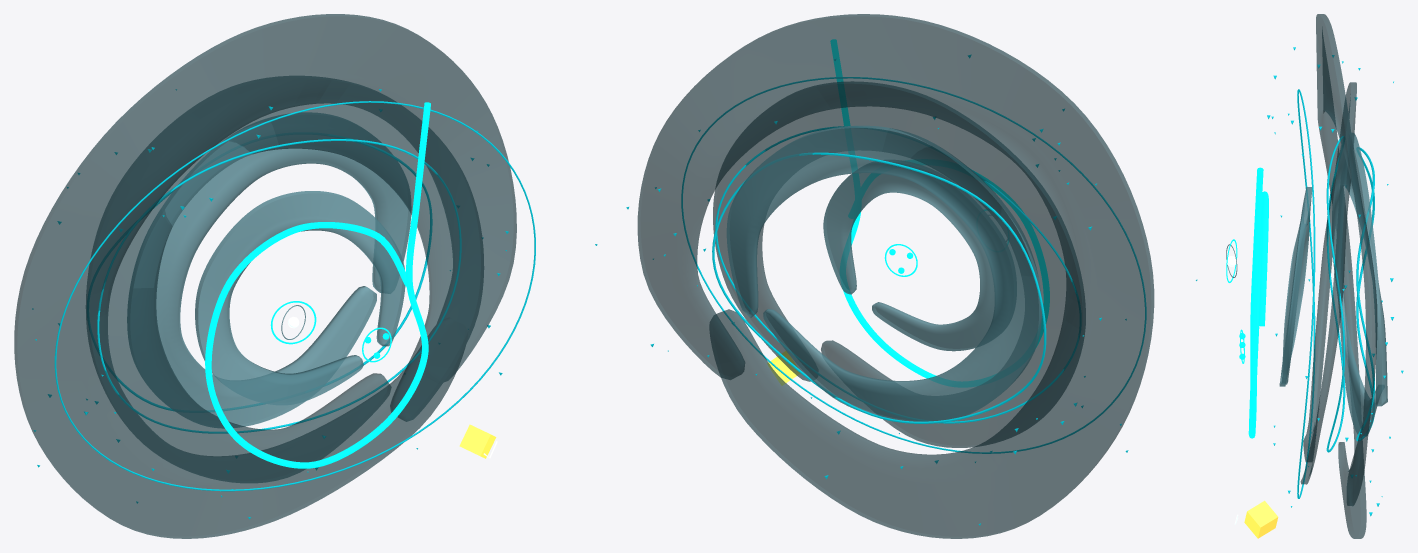
Rendered from digitmorf-morphrig-v1.glb.
3 renders of one model, left to right at view 1: azimuth 30°, elevation 25°; view 2: azimuth 150°, elevation 25°; view 3: azimuth 270°, elevation 25°, orthographic. The views are drawn at different scales.
Parts seen in each view (by area): view 1: glass_ribbon_1, glass_ribbon_2, glass_ribbon_3, glass_ribbon_4, continuous_lowercase_d_current, spatial_orbit_1, spatial_orbit_2, spatial_orbit_3, single_amber_evidence_seal; view 2: glass_ribbon_1, glass_ribbon_2, glass_ribbon_3, glass_ribbon_4, continuous_lowercase_d_current, spatial_orbit_3, spatial_orbit_1, spatial_orbit_2; view 3: glass_ribbon_1, glass_ribbon_2, glass_ribbon_3, continuous_lowercase_d_current, glass_ribbon_4, spatial_orbit_1, spatial_orbit_3, spatial_orbit_2, single_amber_evidence_seal, spatial_particle_field.
Boxes of the visible parts, bbox=[...] form: glass_ribbon_1: bbox=[14, 14, 516, 538]; glass_ribbon_2: bbox=[86, 76, 484, 483]; glass_ribbon_3: bbox=[127, 112, 411, 428]; glass_ribbon_4: bbox=[195, 191, 405, 405]; continuous_lowercase_d_current: bbox=[205, 102, 430, 468]; spatial_orbit_1: bbox=[54, 101, 535, 491]; spatial_orbit_2: bbox=[97, 139, 461, 433]; spatial_orbit_3: bbox=[116, 135, 432, 411]; single_amber_evidence_seal: bbox=[459, 424, 496, 458]; glass_ribbon_1: bbox=[637, 14, 1154, 538]; glass_ribbon_2: bbox=[713, 81, 1085, 447]; glass_ribbon_3: bbox=[726, 125, 1041, 421]; glass_ribbon_4: bbox=[823, 173, 994, 351]; continuous_lowercase_d_current: bbox=[830, 39, 1049, 386]; spatial_orbit_3: bbox=[712, 152, 1046, 423]; spatial_orbit_1: bbox=[681, 77, 1146, 453]; spatial_orbit_2: bbox=[715, 126, 1079, 423]; glass_ribbon_1: bbox=[1316, 14, 1377, 538]; glass_ribbon_2: bbox=[1300, 82, 1356, 484]; glass_ribbon_3: bbox=[1332, 132, 1387, 436]; continuous_lowercase_d_current: bbox=[1248, 167, 1268, 438]; glass_ribbon_4: bbox=[1279, 187, 1312, 386]; spatial_orbit_1: bbox=[1297, 89, 1315, 498]; spatial_orbit_3: bbox=[1356, 147, 1374, 441]; spatial_orbit_2: bbox=[1326, 136, 1345, 452]; single_amber_evidence_seal: bbox=[1244, 500, 1278, 538]; spatial_particle_field: bbox=[1267, 47, 1403, 516].
Bounding box in the file's own units: 5.11 × 4.47 × 1.5.
